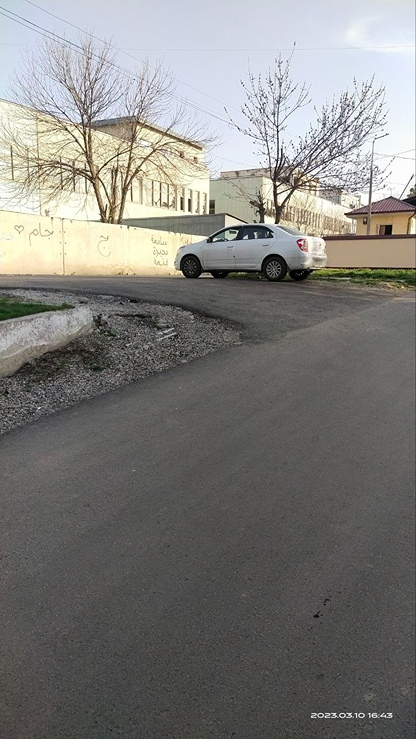car: (174, 222, 326, 284)
tree: (21, 32, 208, 214), (239, 56, 409, 205)
